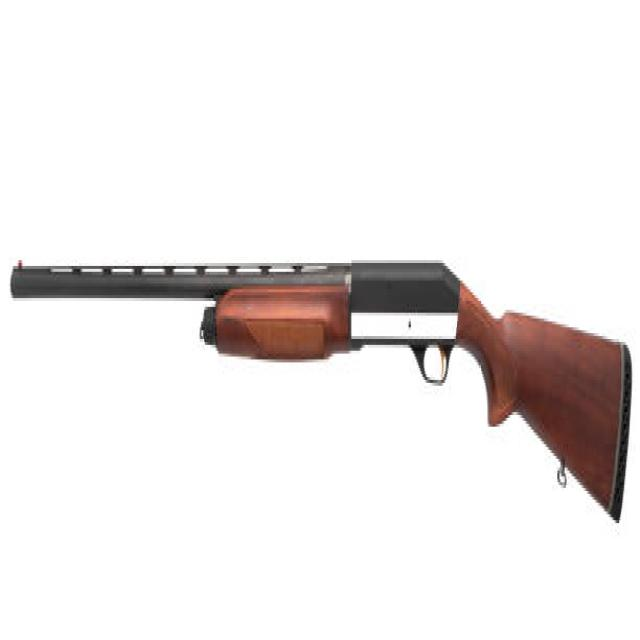rifle: (7, 238, 639, 554)
